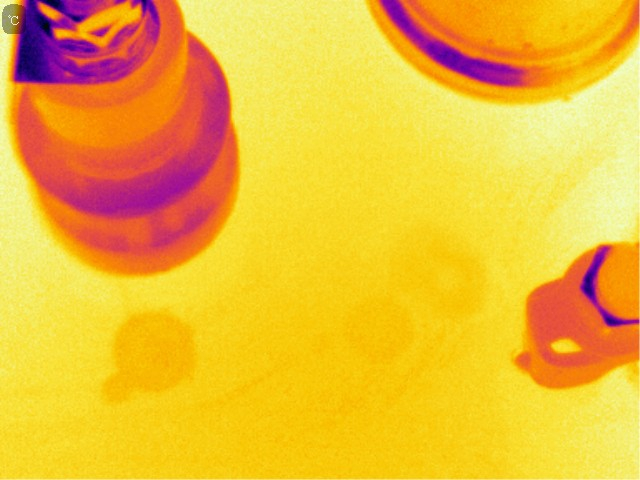Oil: (100, 307, 198, 399), (409, 230, 490, 305), (338, 290, 407, 357)
